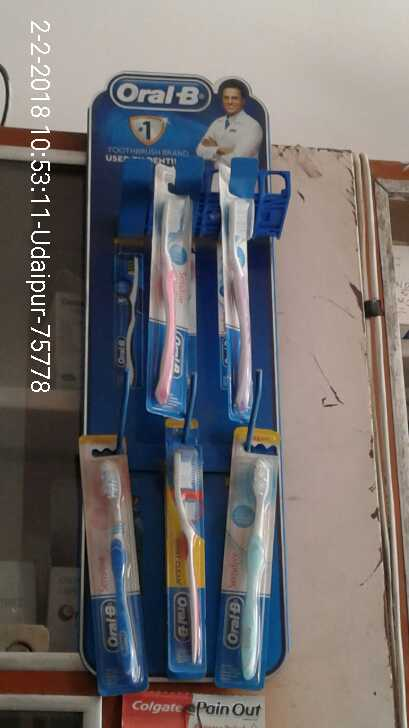oralb: (80, 430, 161, 685), (226, 431, 281, 687), (161, 421, 211, 668), (154, 160, 199, 418), (219, 164, 260, 419)
